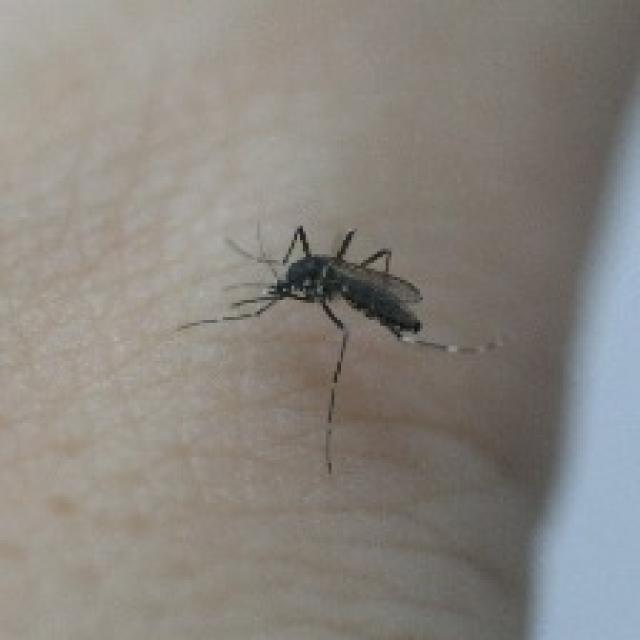aedes: (174, 217, 503, 474)
